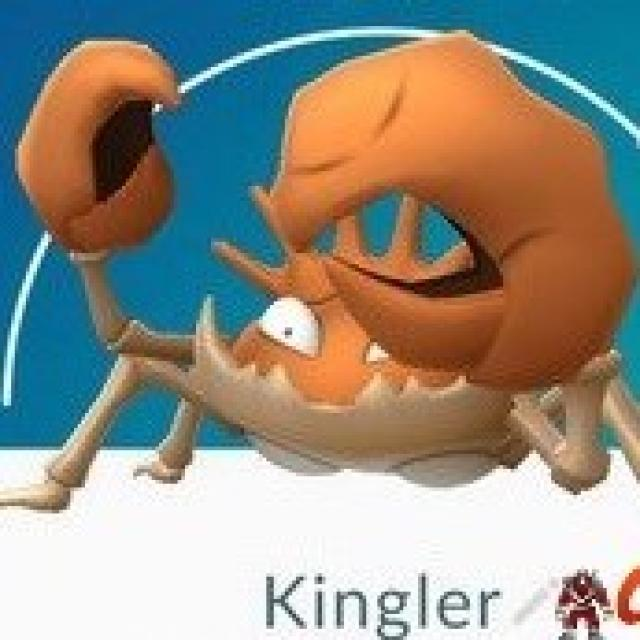Kingler: (31, 30, 640, 491)
